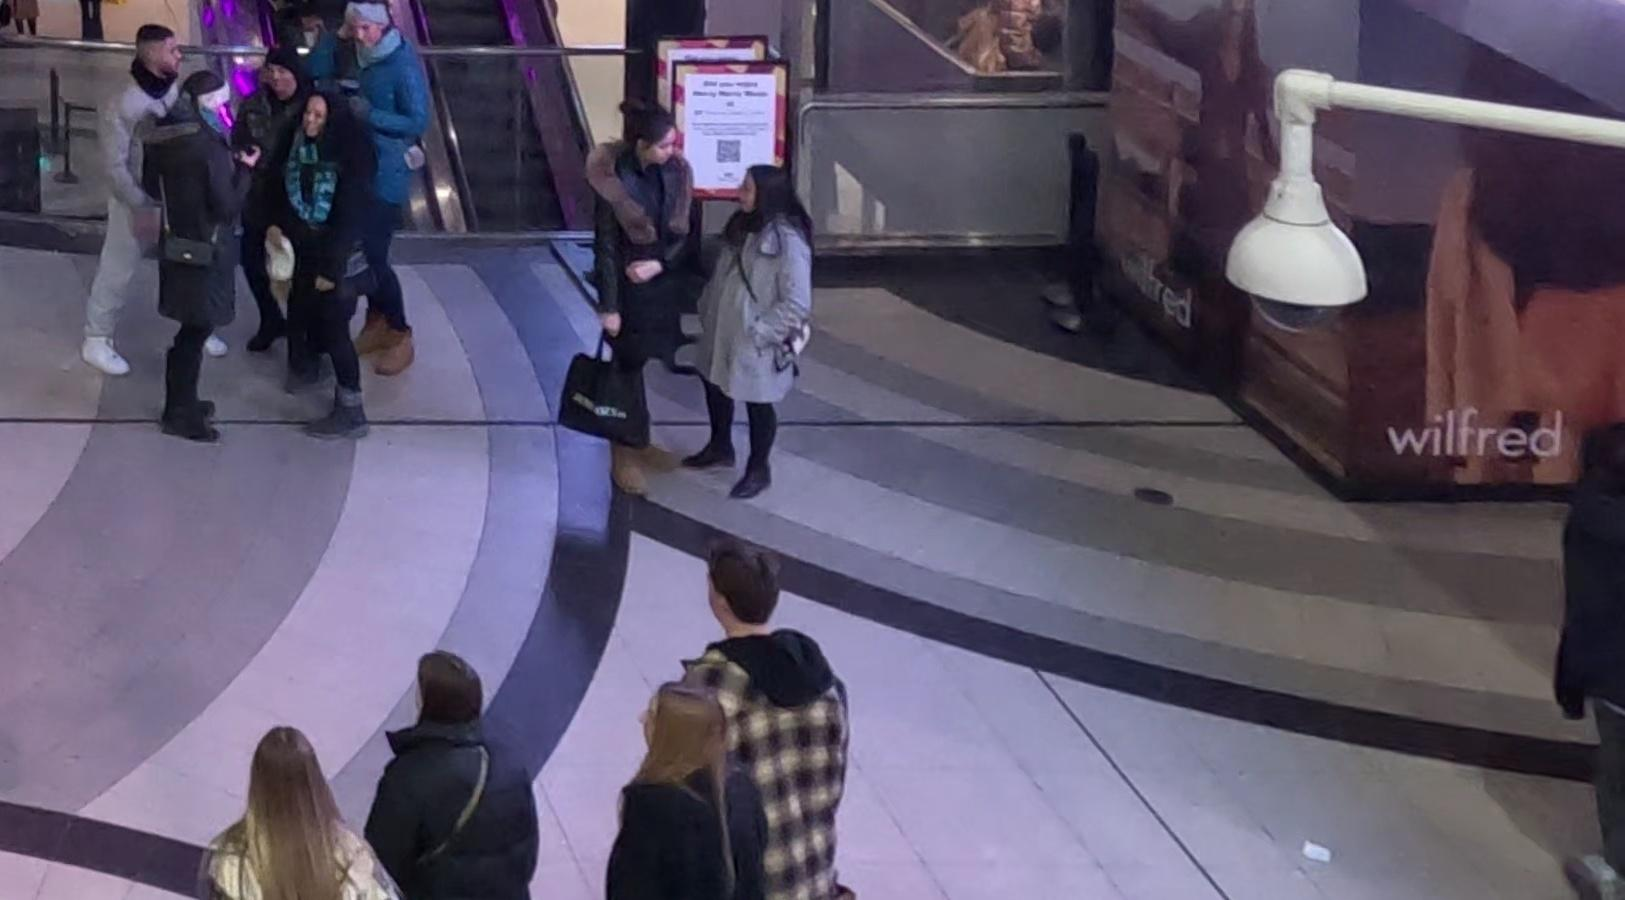person: (683, 542, 866, 892), (132, 60, 266, 458), (327, 646, 536, 900), (581, 94, 711, 494), (588, 663, 791, 898), (688, 156, 814, 509), (297, 63, 418, 411), (199, 710, 392, 899)
